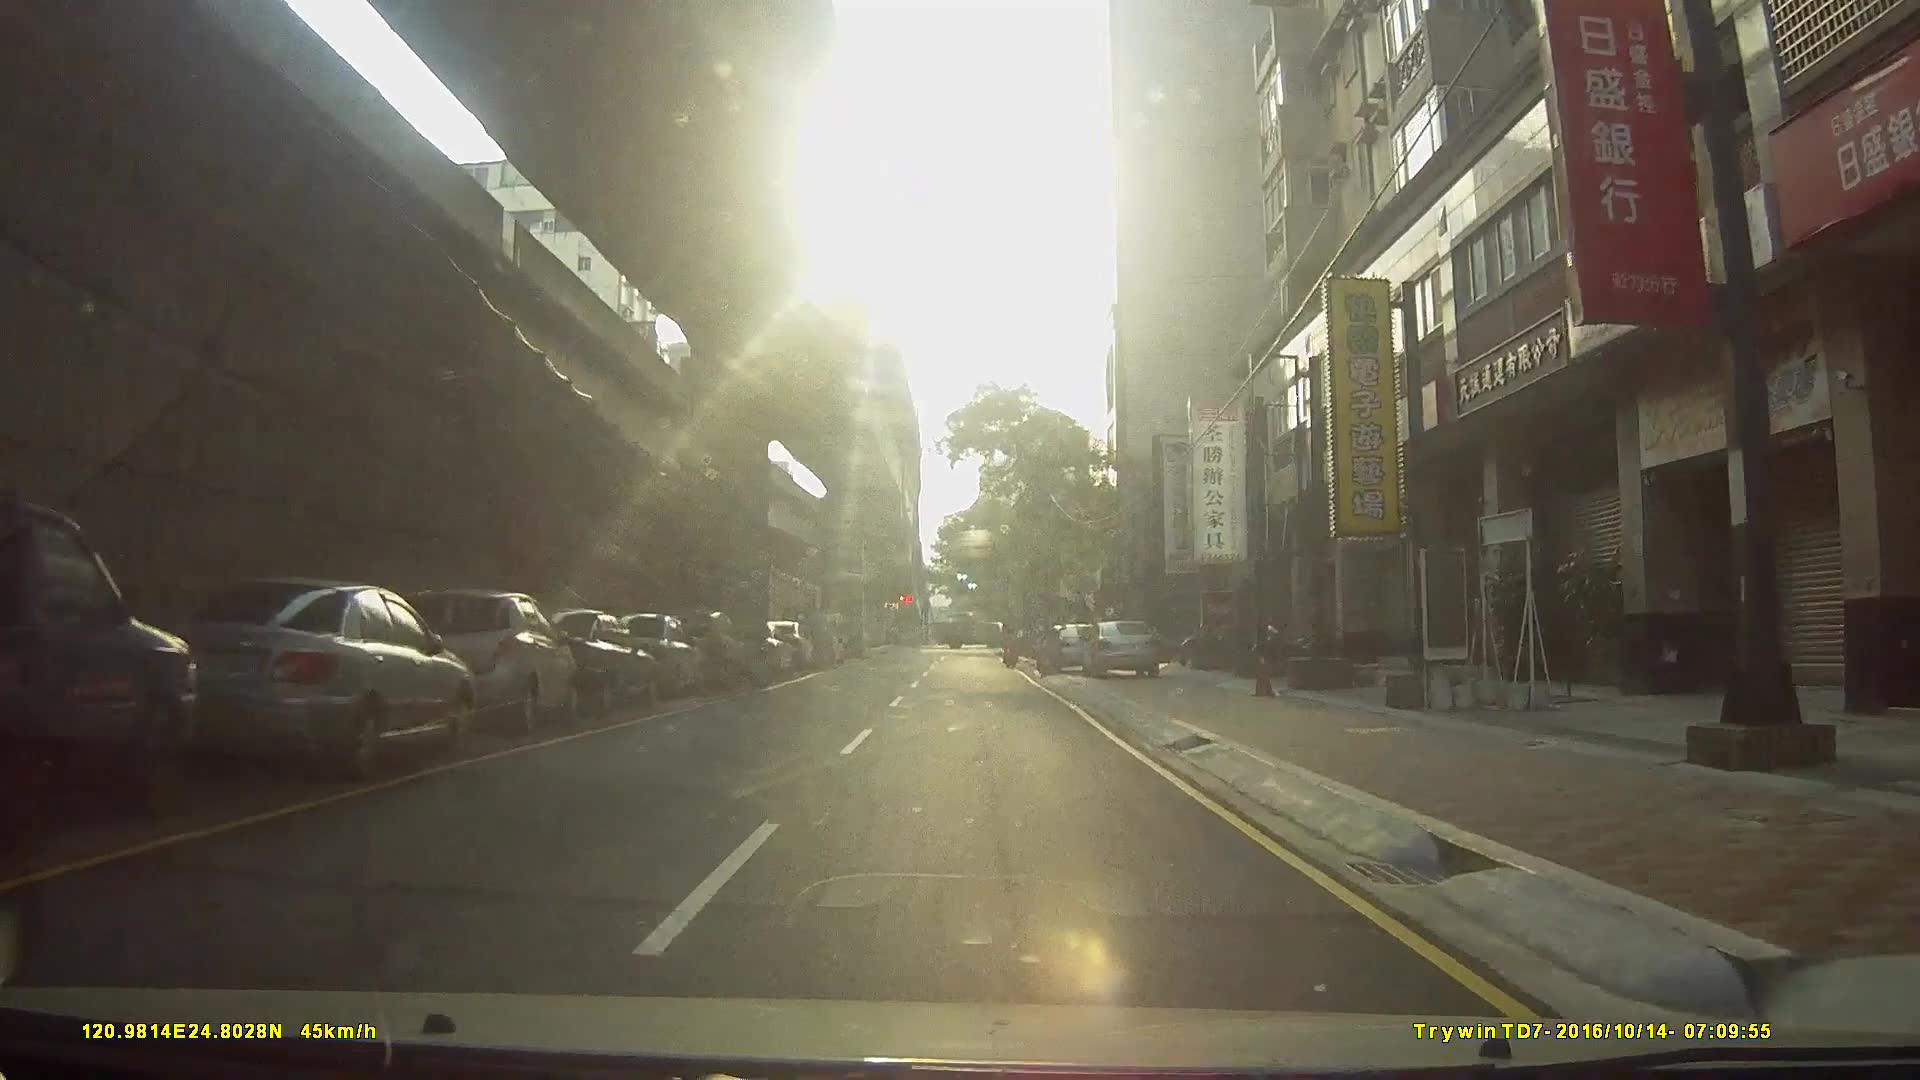vehicle: (120, 576, 467, 795), (1, 505, 208, 852), (375, 587, 575, 741), (517, 608, 654, 717), (611, 615, 707, 700), (662, 609, 749, 695), (1077, 620, 1164, 678), (777, 601, 833, 671), (1034, 622, 1101, 678), (932, 613, 1011, 650)
